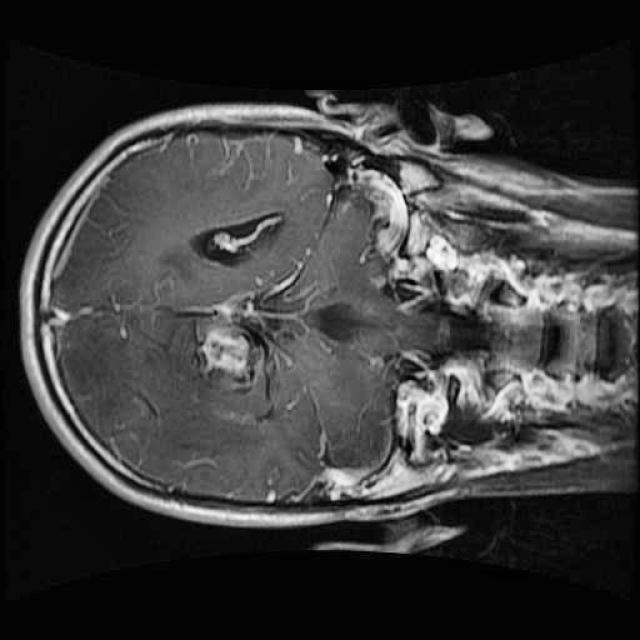Non-Tumor: (169, 279, 286, 406)
